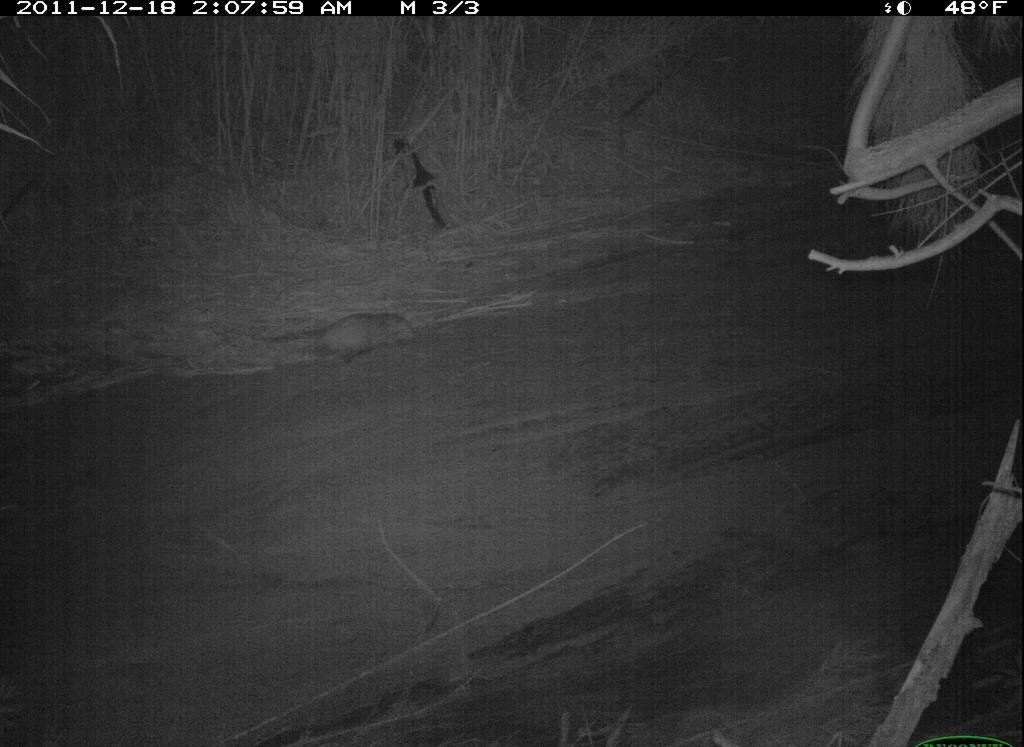opossum: (259, 300, 427, 374)
